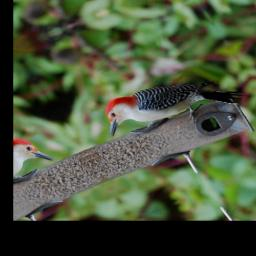Woodpecker: (91, 56, 251, 153)
